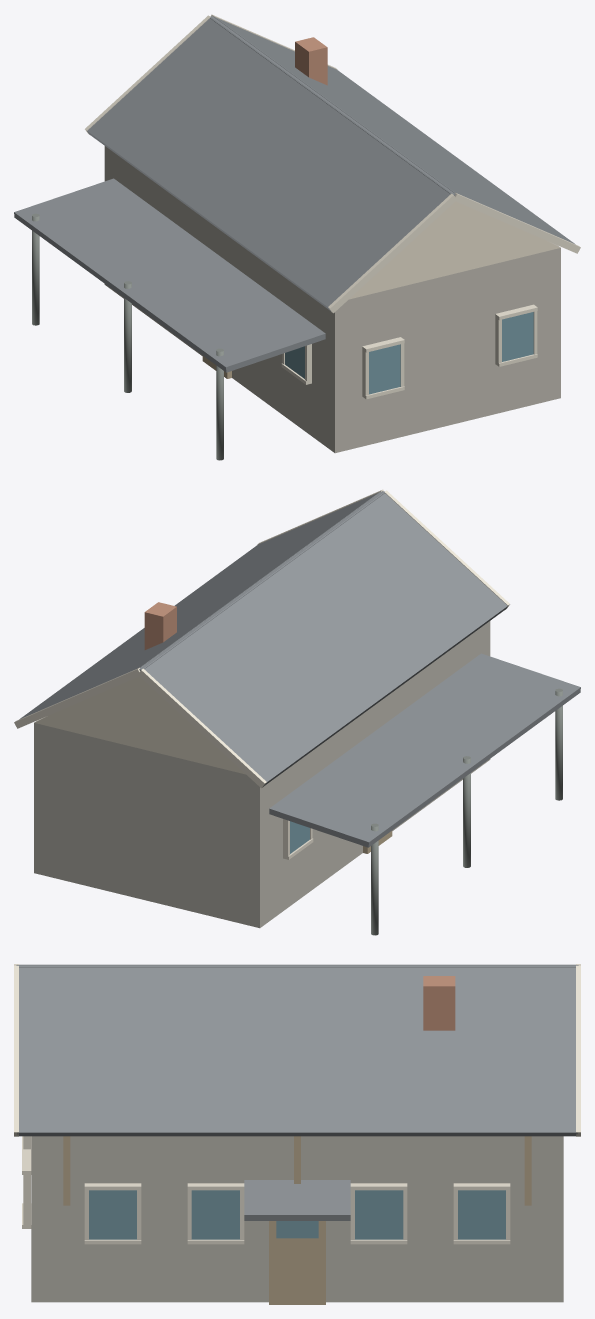
File: rhine-station_lod1.glb
3 renders of one model, top to bottom at view 1: azimuth 30°, elevation 25°; view 2: azimuth 150°, elevation 25°; view 3: azimuth 270°, elevation 25°, orthographic. The views are drawn at different scales.
Visible parts, largest first — view 1: RF_Roof.001, RF_Station_Body, RF_PlatformCanopy, RF_Roof, RF_Gable, RF_Vergeband.001, RF_Ridge, RF_Window.009, RF_Window, RF_StationChimney, RF_Vergeband.003, RF_CanopyColumn.001 (+3 smaller); view 2: RF_Roof.001, RF_Station_Body, RF_PlatformCanopy, RF_Roof, RF_Gable.001, RF_Vergeband.002, RF_Ridge, RF_StationChimney, RF_Vergeband, RF_CanopyColumn, RF_CanopyColumn.001, RF_CanopyColumn.002 (+1 smaller); view 3: RF_Roof, RF_Station_Body, RF_PublicAwning, RF_Station_Door, RF_Window.006, RF_Window.007, RF_Window.005, RF_Window.008, RF_StationChimney, RF_Ridge, RF_Roof.001, RF_Vergeband.003 (+8 smaller).
Boxes of the visible parts, left/top/right/bottom form: RF_Roof.001: left=87, top=17, right=451, bottom=311; RF_Station_Body: left=104, top=146, right=560, bottom=453; RF_PlatformCanopy: left=14, top=178, right=325, bottom=372; RF_Roof: left=213, top=16, right=575, bottom=244; RF_Gable: left=349, top=201, right=560, bottom=299; RF_Vergeband.001: left=328, top=193, right=456, bottom=313; RF_Ridge: left=210, top=16, right=455, bottom=195; RF_Window.009: left=369, top=344, right=400, bottom=394; RF_Window: left=502, top=312, right=533, bottom=361; RF_StationChimney: left=295, top=37, right=327, bottom=85; RF_Vergeband.003: left=454, top=192, right=580, bottom=253; RF_CanopyColumn.001: left=216, top=348, right=223, bottom=460; RF_Roof.001: left=143, top=492, right=507, bottom=786; RF_Station_Body: left=34, top=621, right=490, bottom=928; RF_PlatformCanopy: left=269, top=653, right=580, bottom=847; RF_Roof: left=19, top=491, right=381, bottom=719; RF_Gable.001: left=34, top=676, right=245, bottom=774; RF_Vergeband.002: left=138, top=668, right=266, bottom=788; RF_Ridge: left=139, top=491, right=384, bottom=670; RF_StationChimney: left=144, top=602, right=176, bottom=649; RF_Vergeband: left=14, top=667, right=140, bottom=728; RF_CanopyColumn: left=371, top=823, right=378, bottom=935; RF_CanopyColumn.001: left=555, top=688, right=562, bottom=800; RF_CanopyColumn.002: left=463, top=756, right=470, bottom=867; RF_Roof: left=17, top=966, right=577, bottom=1136; RF_Station_Body: left=31, top=1136, right=563, bottom=1302; RF_PublicAwning: left=244, top=1180, right=350, bottom=1220; RF_Station_Door: left=269, top=1221, right=325, bottom=1304; RF_Window.006: left=191, top=1190, right=239, bottom=1239; RF_Window.007: left=355, top=1190, right=403, bottom=1239; RF_Window.005: left=89, top=1190, right=136, bottom=1239; RF_Window.008: left=458, top=1190, right=505, bottom=1239; RF_StationChimney: left=423, top=976, right=455, bottom=1030; RF_Ridge: left=16, top=965, right=578, bottom=967; RF_Roof.001: left=19, top=964, right=575, bottom=965; RF_Vergeband.003: left=14, top=966, right=18, bottom=1136.
Bounding box in the file's own units: 14.11 × 8.7 × 15.98.
